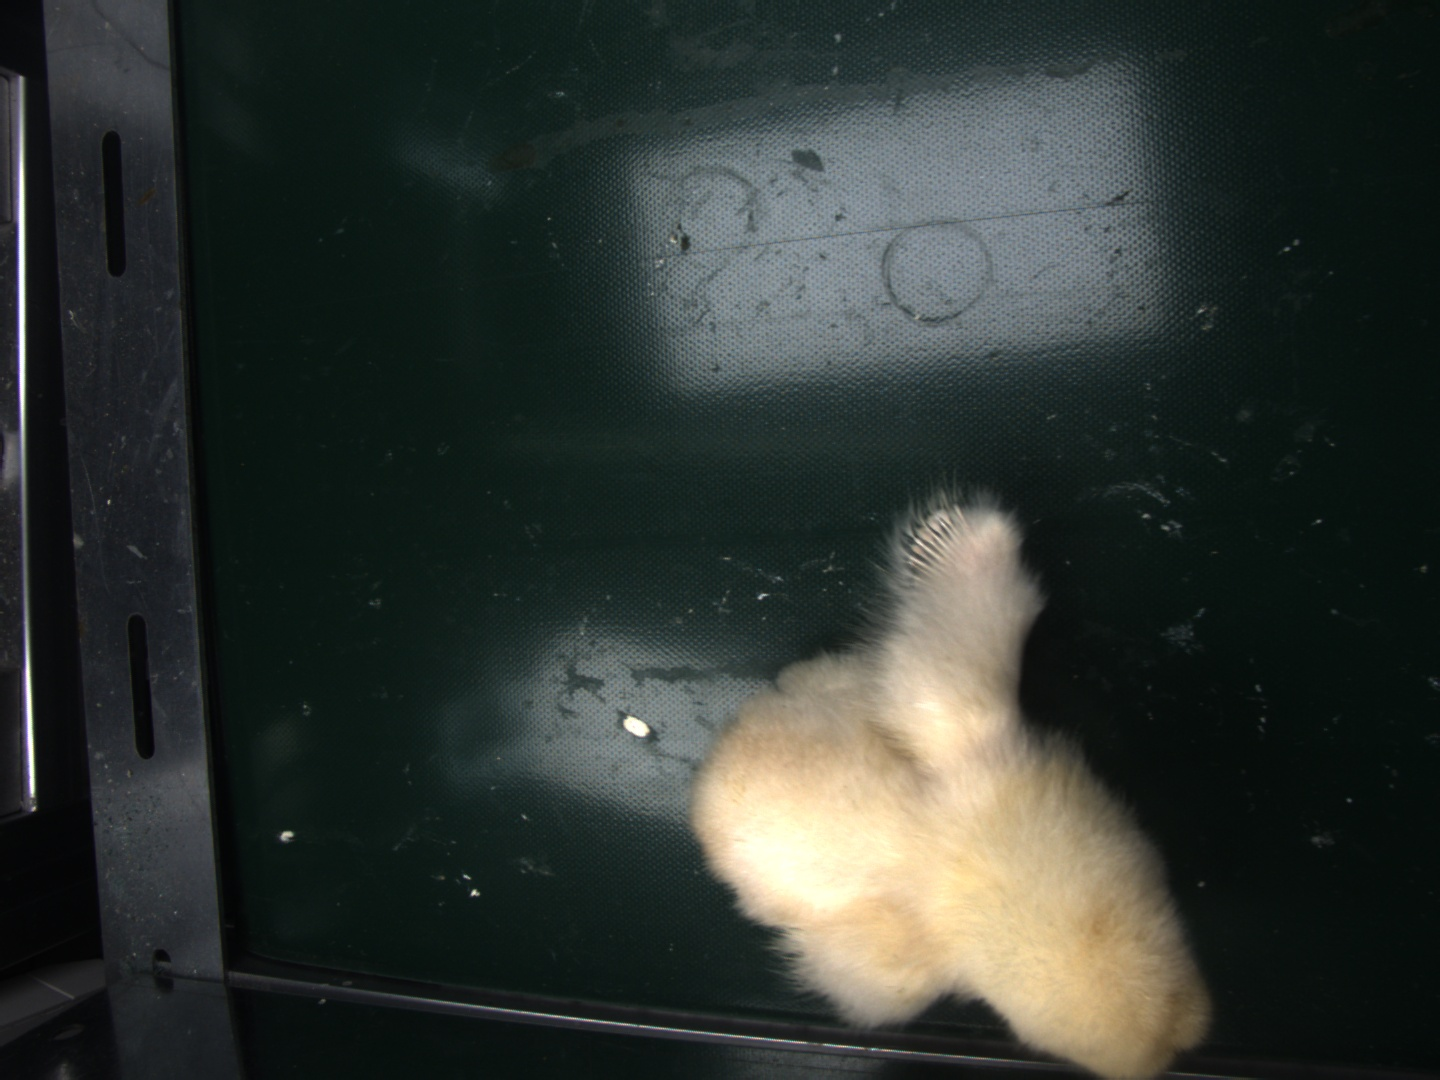male: (901, 503, 969, 583)
